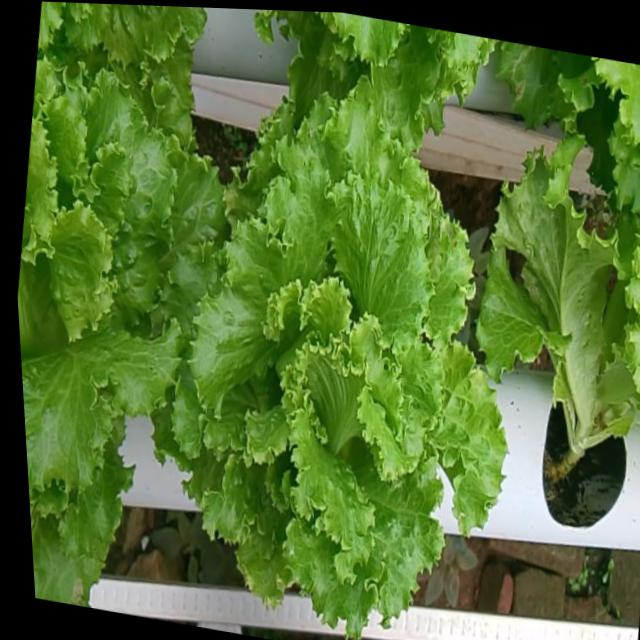Mature: (175, 93, 512, 635), (18, 72, 227, 505)
